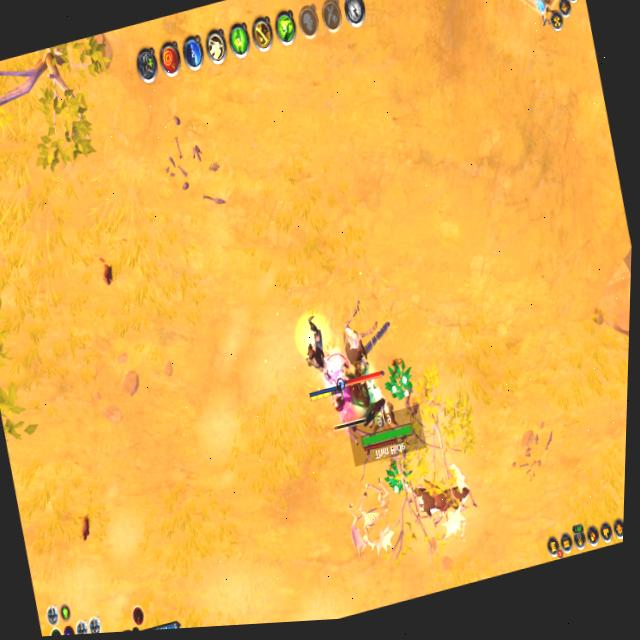hide: (381, 356, 417, 406), (382, 461, 406, 498)
mob: (407, 461, 482, 547), (332, 295, 386, 376)
ore: (342, 353, 402, 455), (319, 359, 368, 436)
red: (291, 313, 343, 406)
